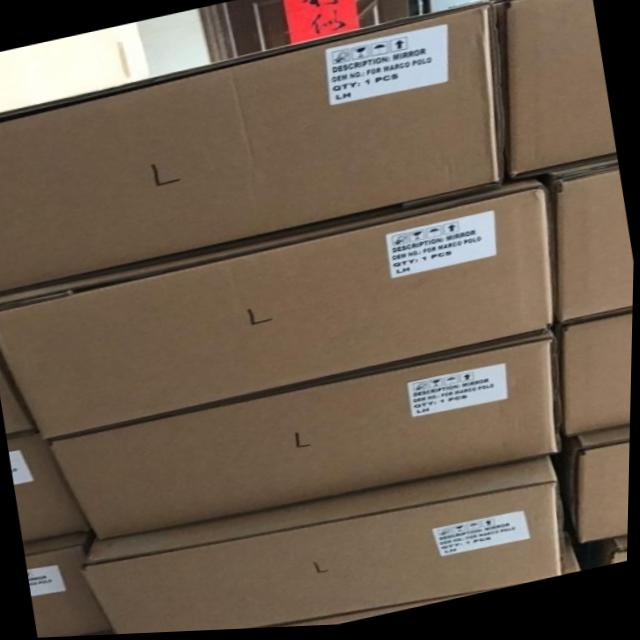box: (0, 2, 504, 290), (0, 181, 556, 439), (54, 330, 569, 542), (86, 460, 563, 635), (228, 487, 583, 632), (502, 0, 616, 184), (527, 159, 635, 331), (548, 316, 634, 439), (8, 423, 92, 540), (553, 428, 632, 546), (35, 528, 116, 638), (0, 339, 39, 434), (584, 537, 630, 573)
